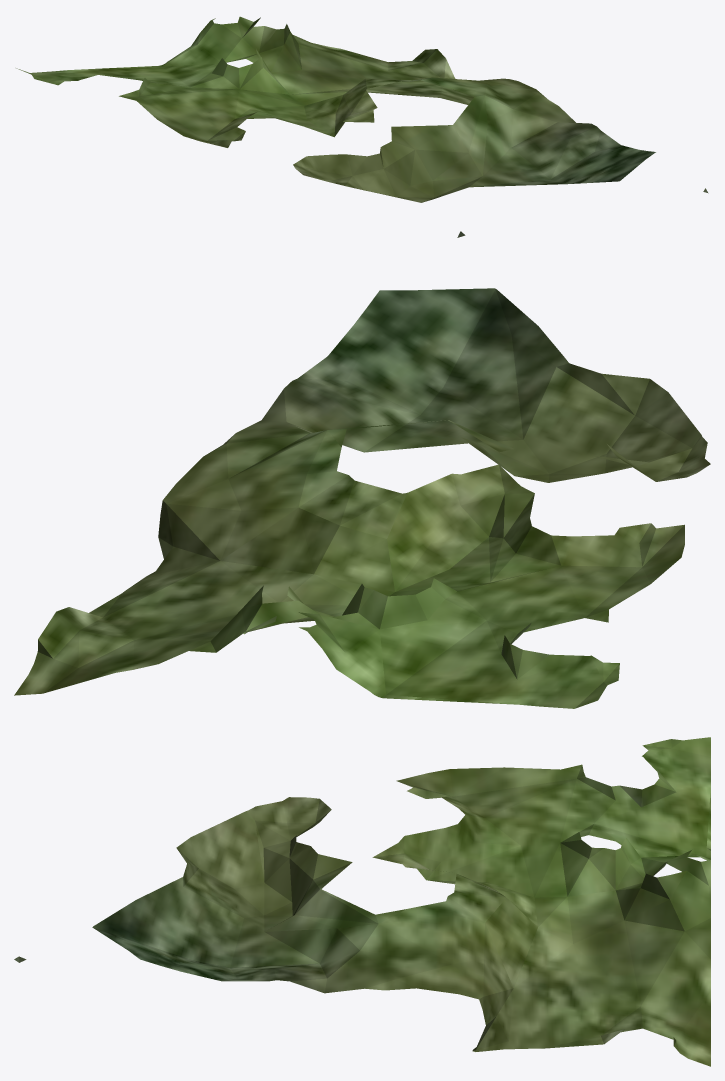
3 renders of one model, top to bottom at view 1: azimuth 30°, elevation 25°; view 2: azimuth 150°, elevation 25°; view 3: azimuth 270°, elevation 25°, orthographic. The views are drawn at different scales.
Bounding box in the file's own units: 1.5 × 0.3381 × 1.99.
Materials: 1 (1 with a texture image).
